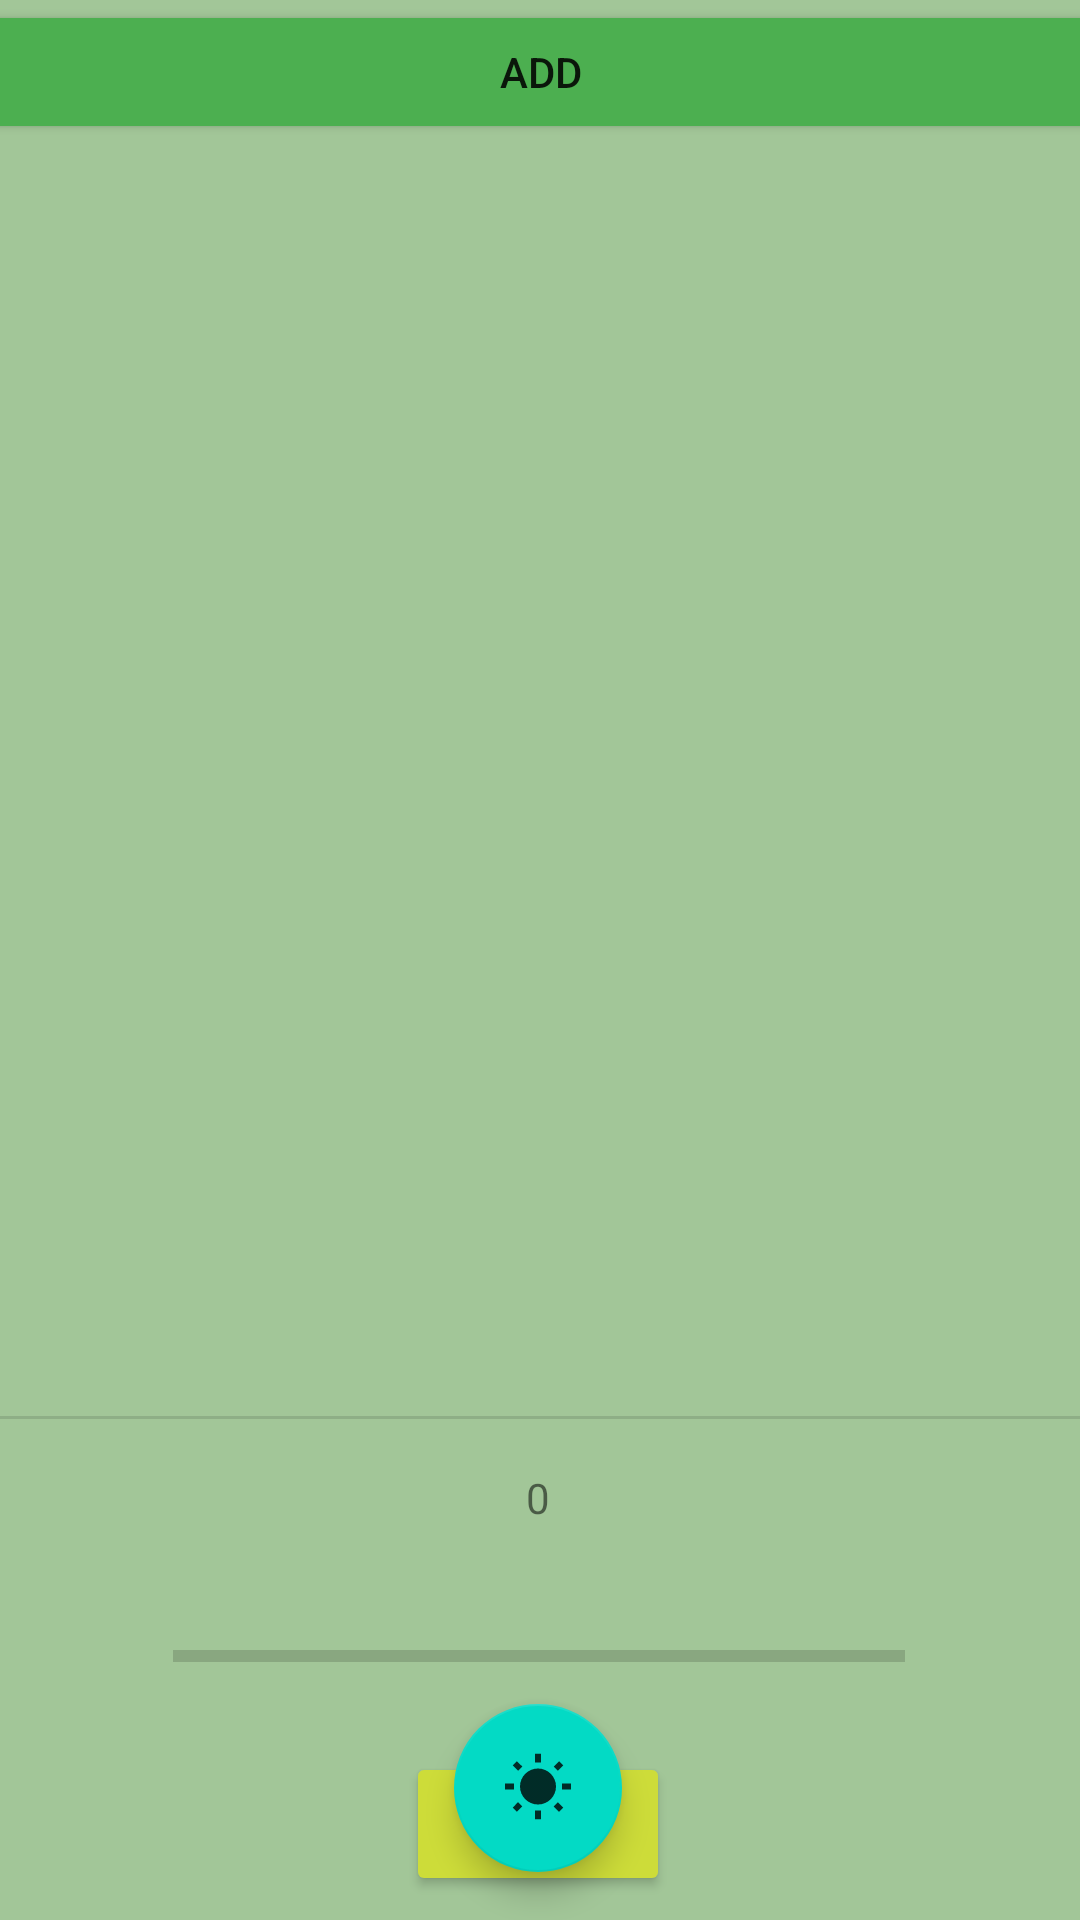

Screen size 1080x1920. Icon name, then its center in pixels as (x,y):
sun: (538,1788)
